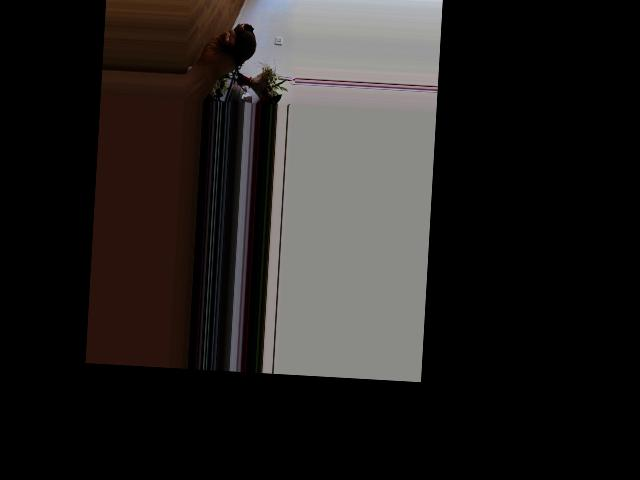beet: (229, 22, 257, 91)
